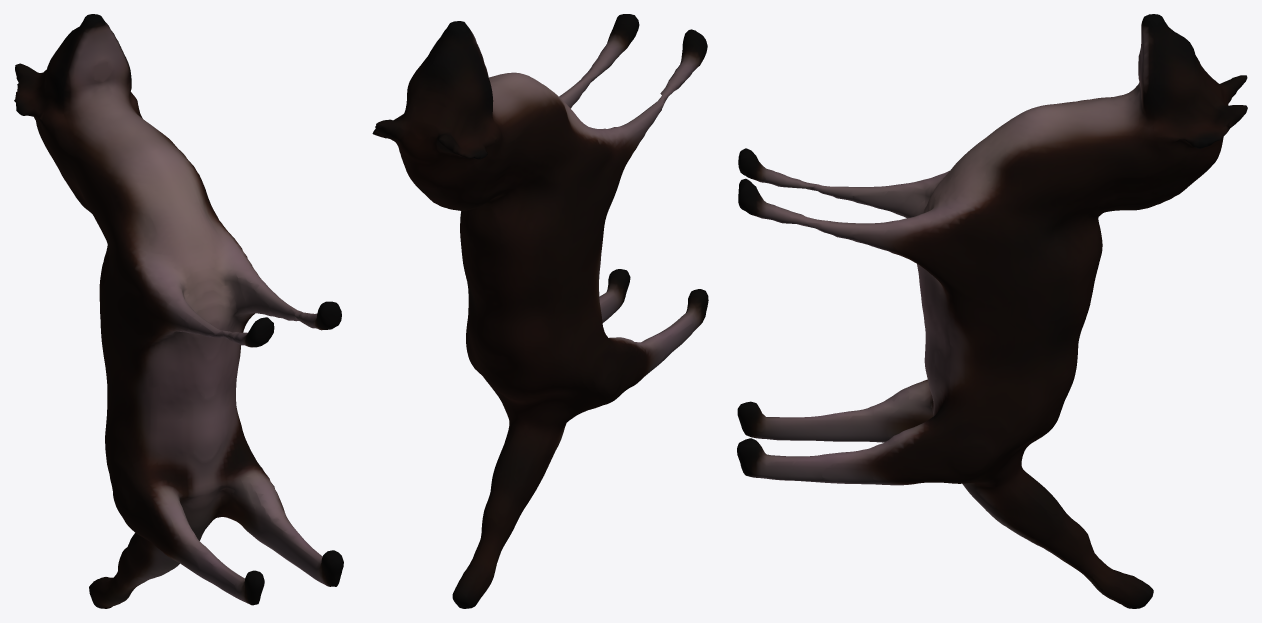
3 renders of one model, left to right at view 1: azimuth 30°, elevation 25°; view 2: azimuth 150°, elevation 25°; view 3: azimuth 270°, elevation 25°, orthographic.
Parts seen in each view (by area): view 1: plyFile; view 2: plyFile; view 3: plyFile.
Boxes of the visible parts, x1,y1,x2,y2 form: plyFile: (14,14,343,608); plyFile: (372,14,708,608); plyFile: (737,14,1247,608).
Bounding box in the file's own units: 46.19 × 198 × 155.
